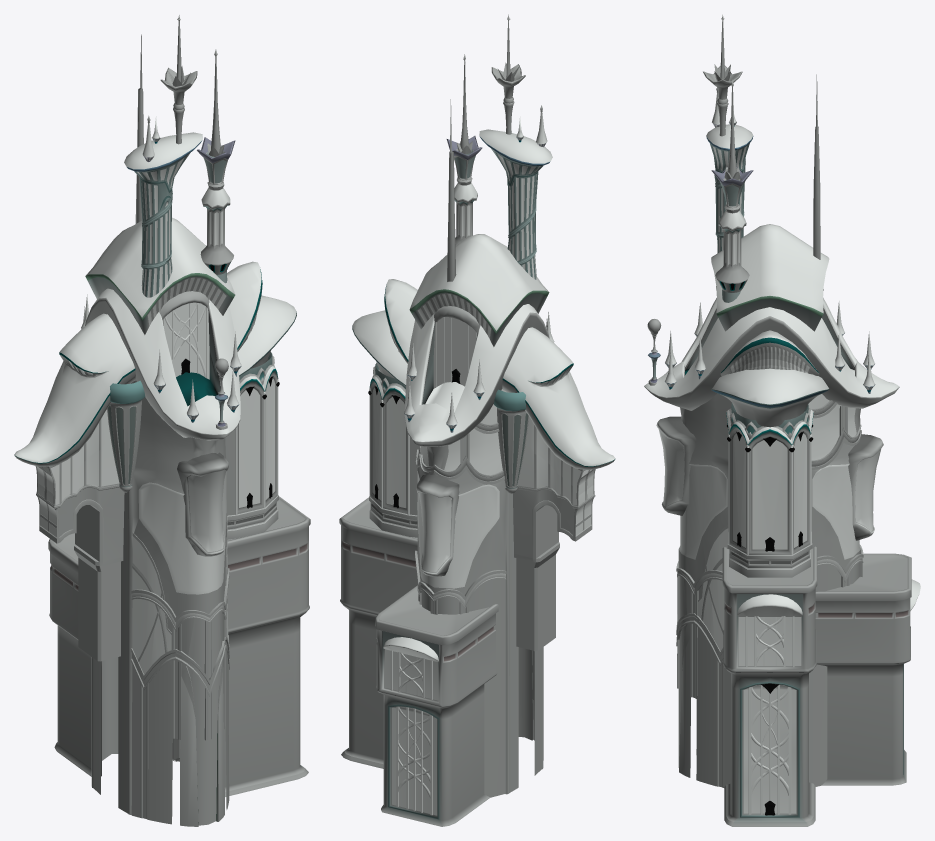
3 views of the same model, side by side, from view 1: azimuth 30°, elevation 25°; view 2: azimuth 150°, elevation 25°; view 3: azimuth 270°, elevation 25° (orthographic). The views are drawn at different scales.
Parts seen in each view (by area): view 1: G:\FFXIV-MapTools\exports\n4f4\bg\ex3\01_nvt_n4\fld\n4f4\bgp (×9); view 2: G:\FFXIV-MapTools\exports\n4f4\bg\ex3\01_nvt_n4\fld\n4f4\bgp (×9); view 3: G:\FFXIV-MapTools\exports\n4f4\bg\ex3\01_nvt_n4\fld\n4f4\bgp (×11).
Boxes of the visible parts, x1=… form: G:\FFXIV-MapTools\exports\n4f4\bg\ex3\01_nvt_n4\fld\n4f4\bgp (×9): x1=14, y1=15, x2=310, y2=826; G:\FFXIV-MapTools\exports\n4f4\bg\ex3\01_nvt_n4\fld\n4f4\bgp (×9): x1=339, y1=14, x2=615, y2=826; G:\FFXIV-MapTools\exports\n4f4\bg\ex3\01_nvt_n4\fld\n4f4\bgp (×11): x1=644, y1=14, x2=920, y2=826.
Size of the model in its own units: 111 by 299 by 99.69.
